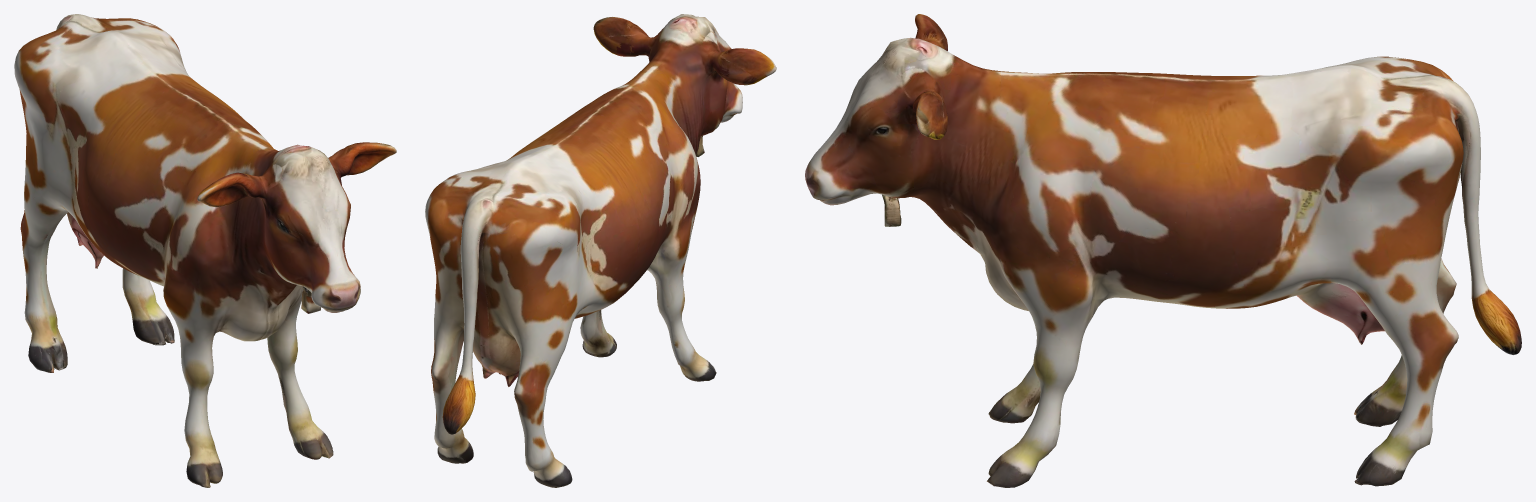
The model's file is cow.glb.
3 views of the same model, side by side, from view 1: azimuth 30°, elevation 25°; view 2: azimuth 150°, elevation 25°; view 3: azimuth 270°, elevation 25° (orthographic). The views are drawn at different scales.
Size of the model in its own units: 0.744 by 1.25 by 1.99.
1 material, 1 textured.
